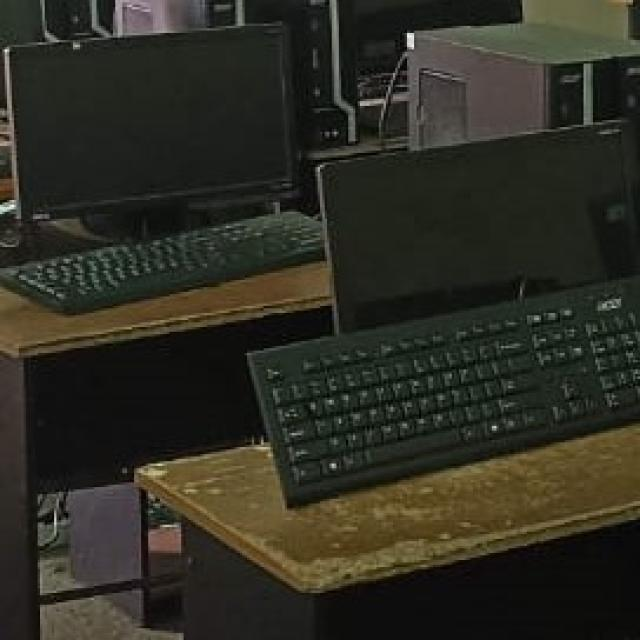offscreen: (13, 25, 291, 218)
